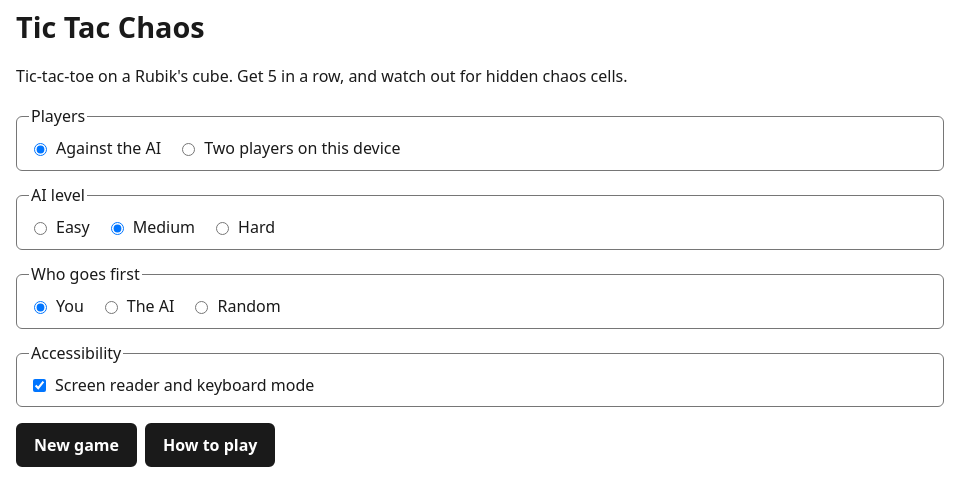
Scenario: menu › hides AI choices in two-player mode
The image size is (961, 484).
Expected: the element "AI level" is shown, [16, 183, 944, 250]
Click the radio button labelled "Two players on this device".
click(189, 150)  # box [182, 143, 195, 156]
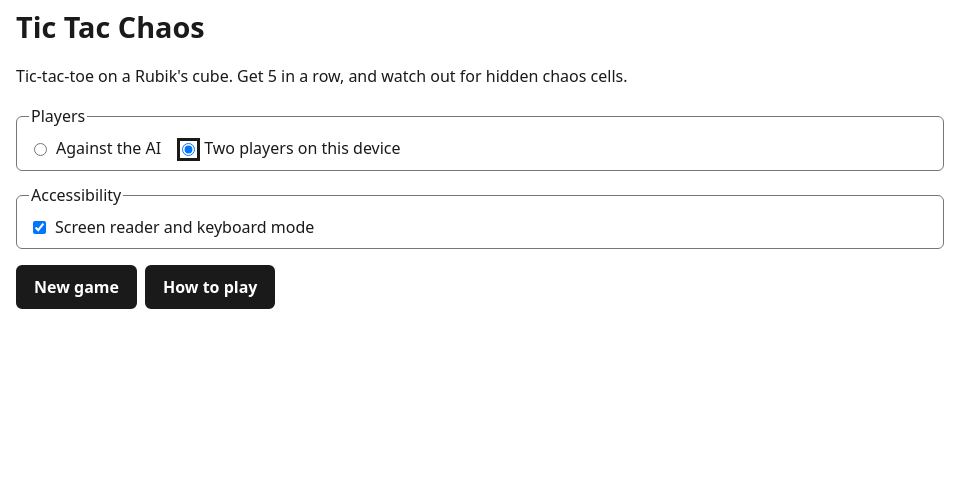
Expected: the text "AI level" is gone
